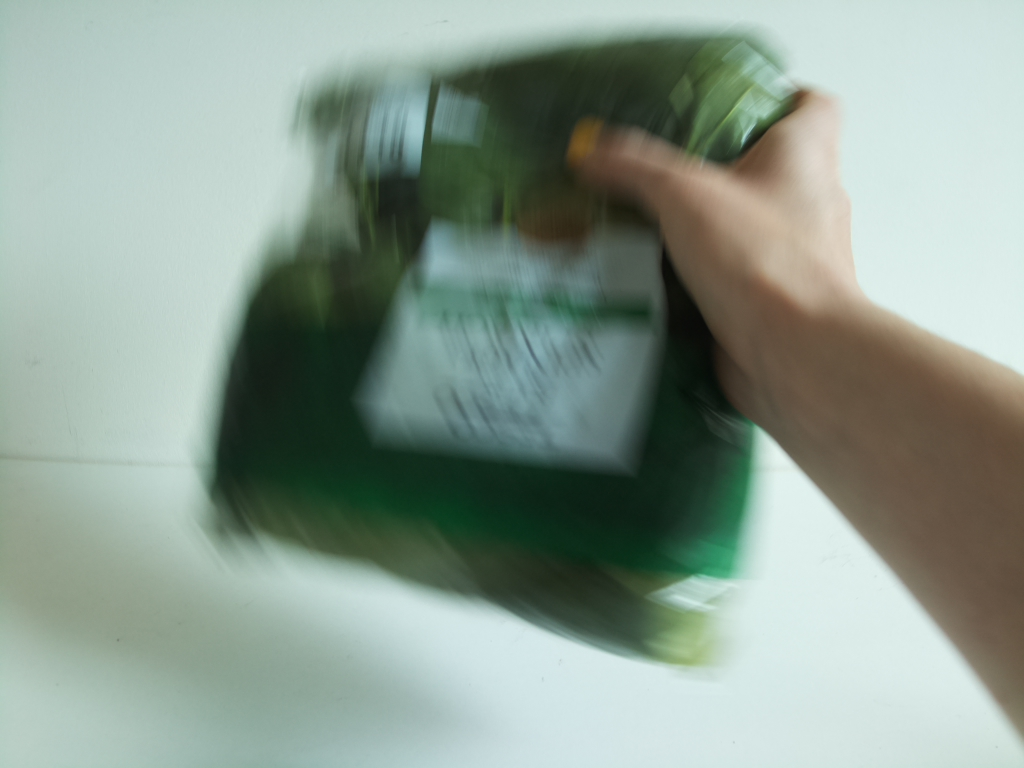salad: (201, 33, 794, 670)
